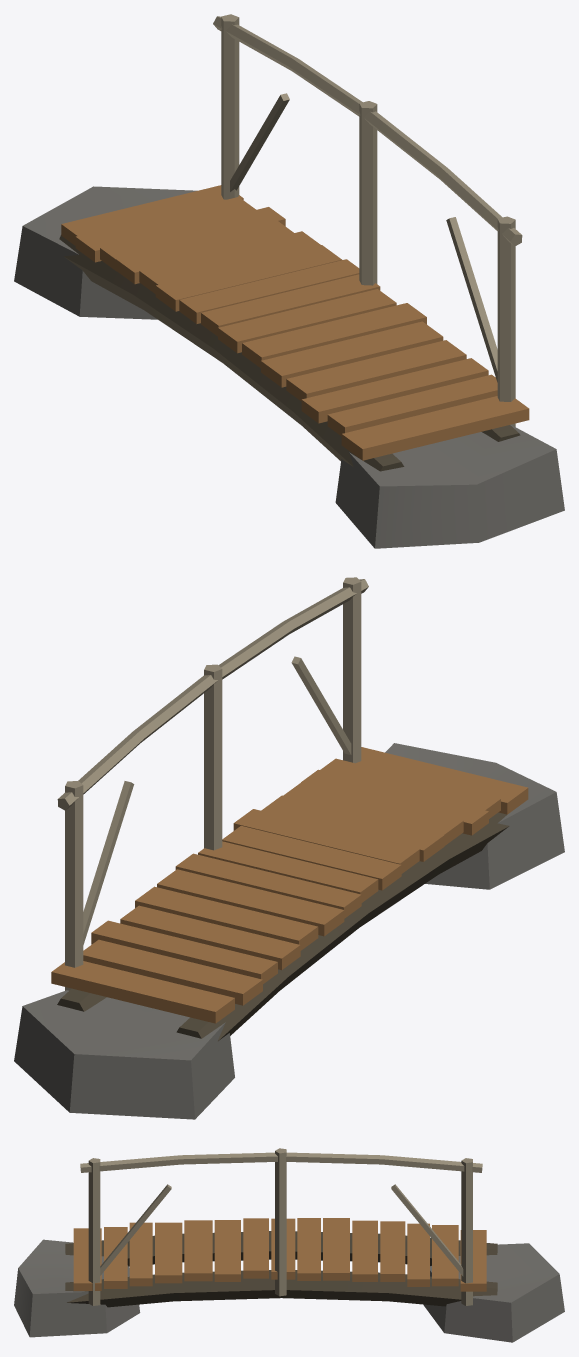
Rendered from Footbridge.fbx.
3 views of the same model, one above another, from view 1: azimuth 30°, elevation 25°; view 2: azimuth 150°, elevation 25°; view 3: azimuth 270°, elevation 25° (orthographic). The views are drawn at different scales.
Parts seen in each view (by area): view 1: Footbridge; view 2: Footbridge; view 3: Footbridge.
Boxes of the visible parts, x1,y1,x2,y2 form: Footbridge: (14, 14, 564, 548); Footbridge: (14, 577, 564, 1119); Footbridge: (14, 1148, 564, 1342).
Size of the model in its own units: 1.07 by 1.41 by 3.84.
